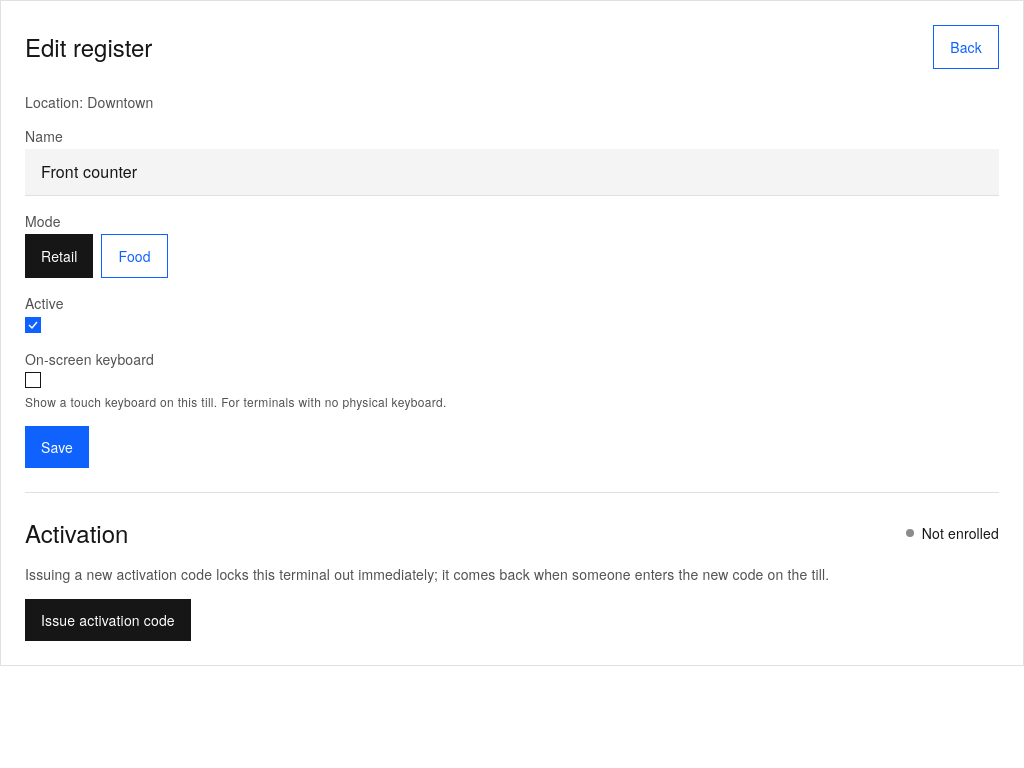
RegisterEditor › updates the activation pill immediately after issuing a code, without waiting for a refetch
Click the button "Issue activation code": coordinates (108, 620) [25,599,191,641]
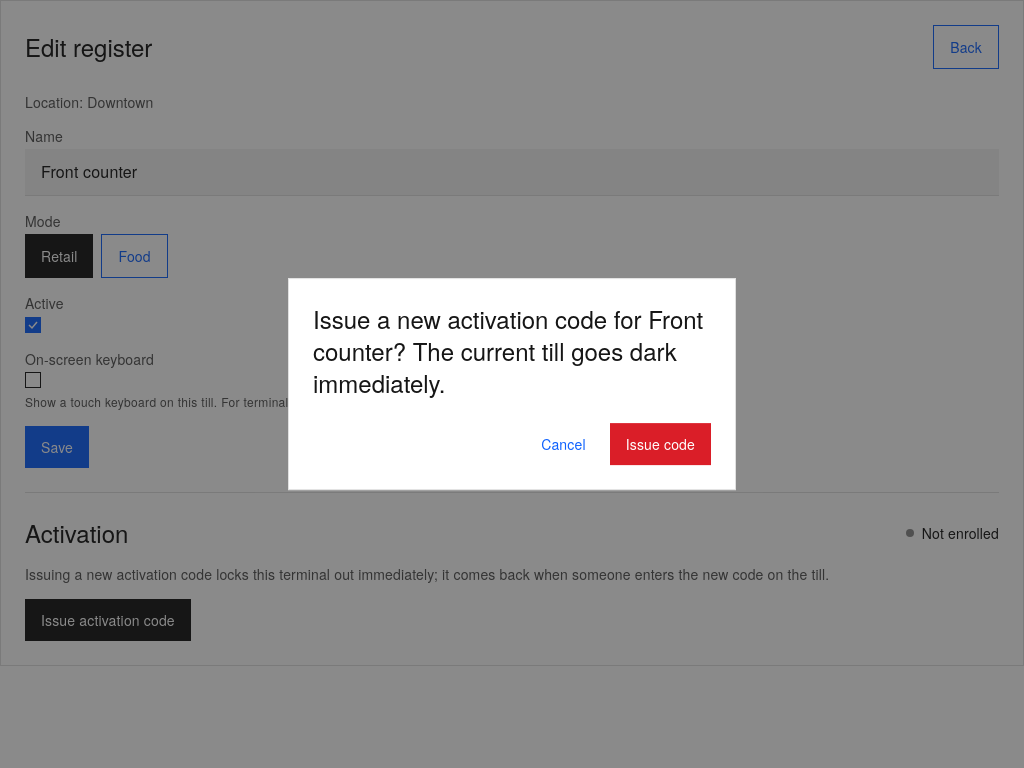
Click the button "Issue code": coordinates (660, 444) [610,423,711,465]
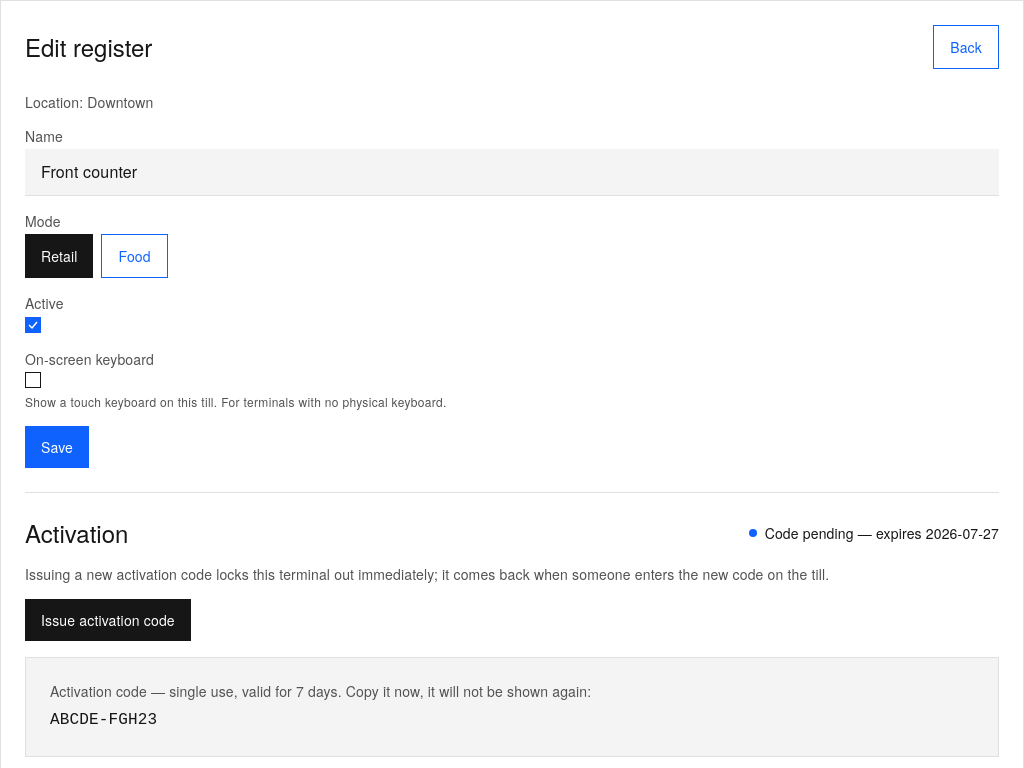
Result: the text "Code pending — expires 2026-07-27" is shown at [749,524,999,542]
